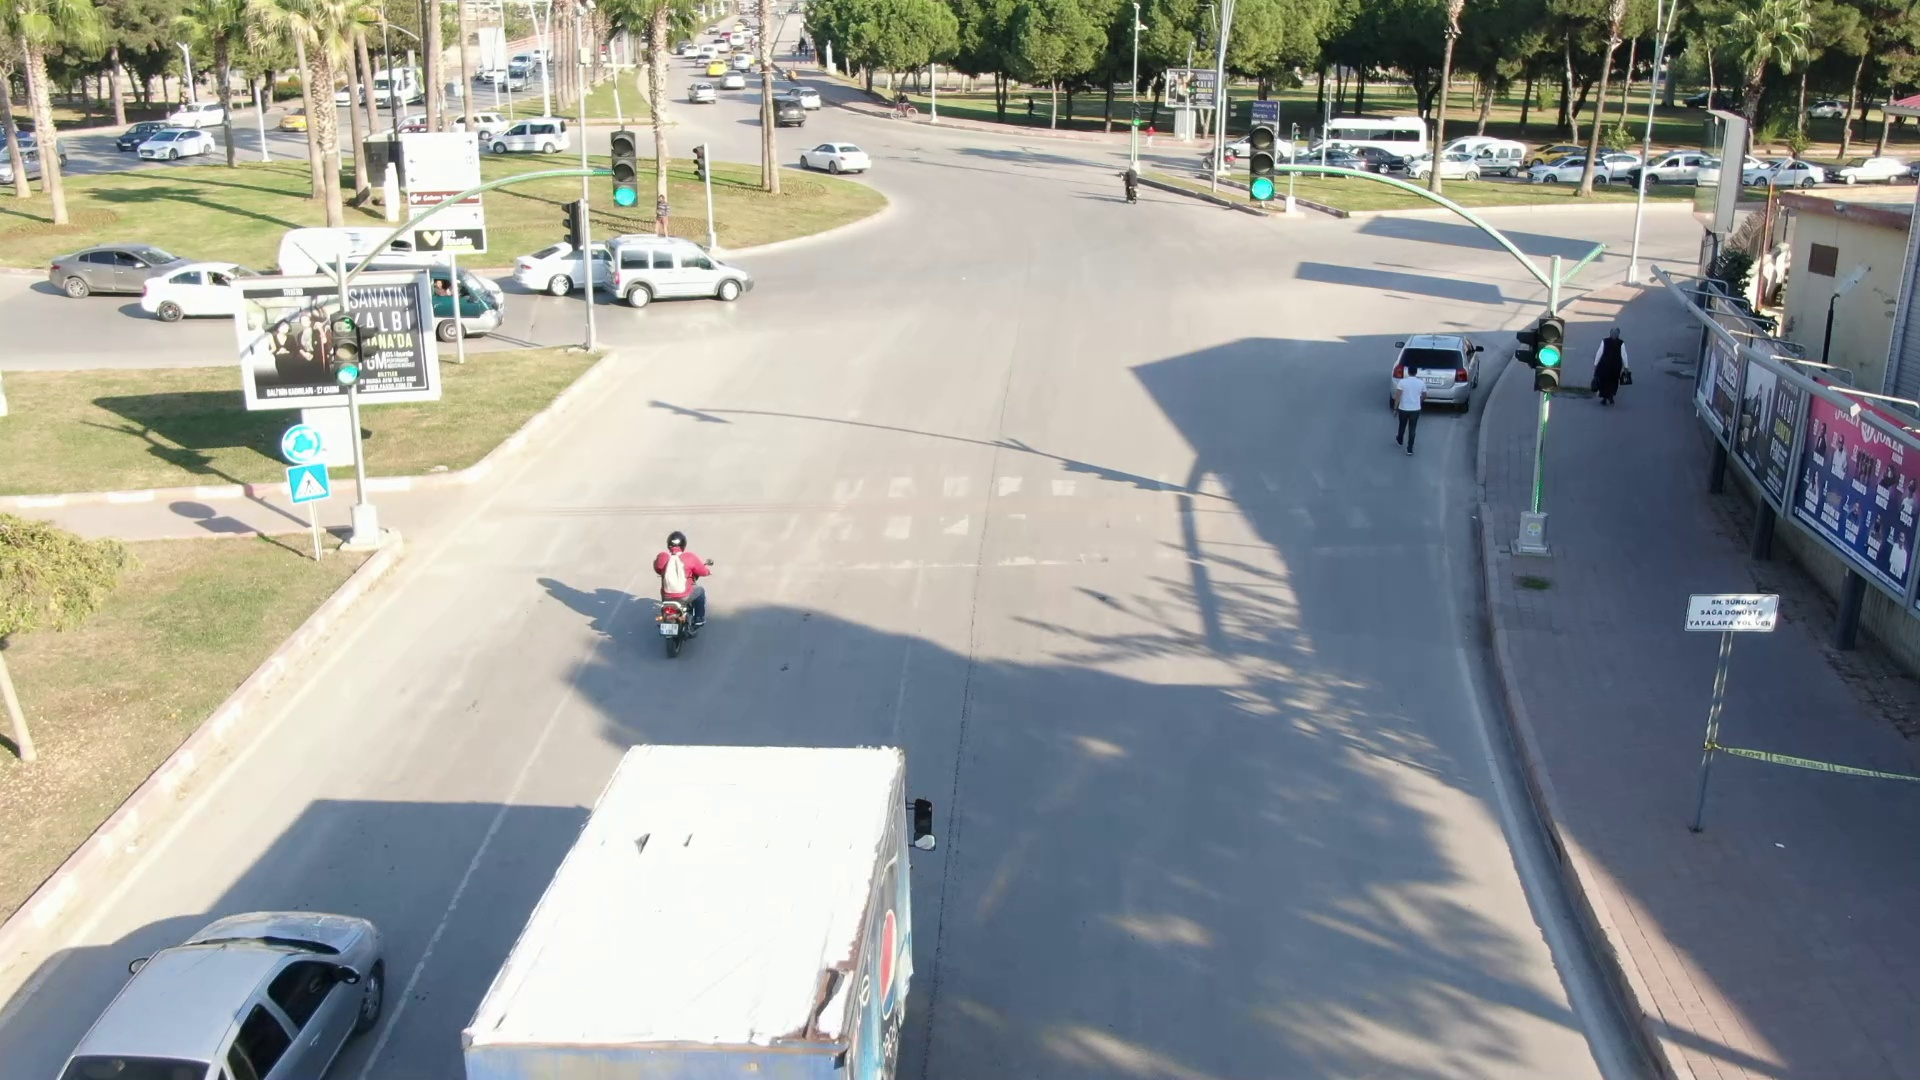car: (33, 854, 433, 1080), (52, 229, 210, 342), (599, 227, 777, 312), (118, 117, 217, 169), (484, 111, 581, 162), (787, 127, 876, 182), (680, 79, 726, 108)
person: (646, 510, 724, 639), (1587, 319, 1641, 416), (1387, 356, 1432, 461)
